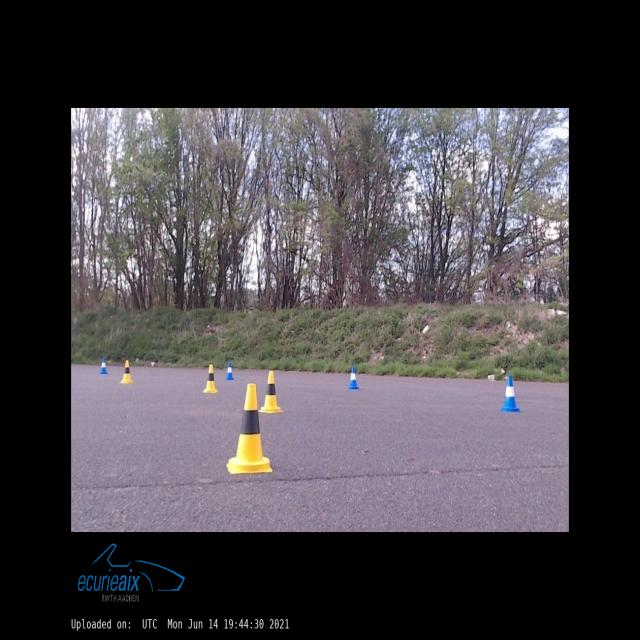blue_cone: (502, 377, 520, 412), (348, 367, 358, 389), (100, 358, 108, 374), (226, 362, 233, 380)
yellow_cone: (227, 384, 272, 474), (258, 372, 283, 412), (204, 364, 218, 392), (120, 360, 132, 384)
